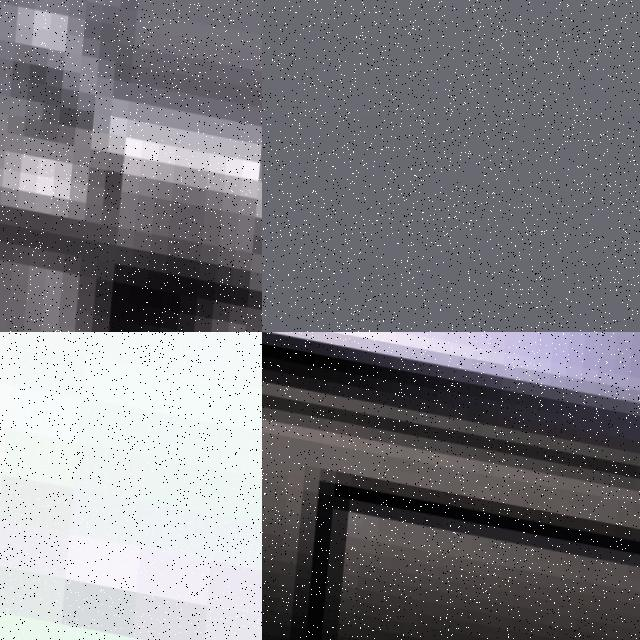0: (0, 0, 262, 332)
drone: (262, 332, 640, 640), (0, 332, 262, 640)
